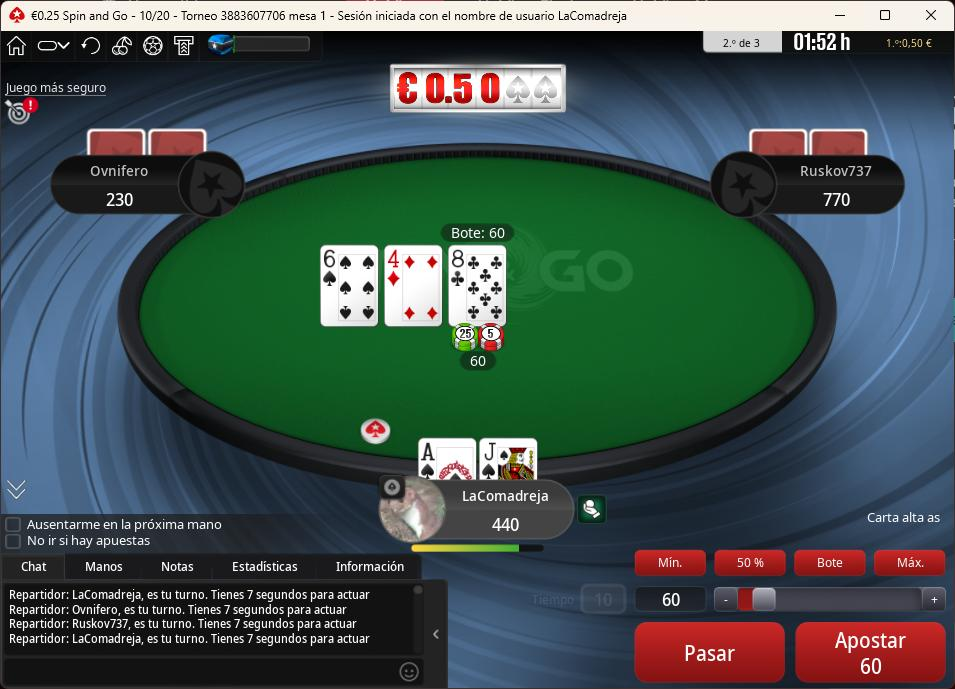ButtonCheck: (633, 616, 784, 684)
ButtonMaxRaise: (872, 548, 945, 579)
ButtonMinRaise: (634, 550, 709, 578)
ButtonPotRaise: (791, 543, 867, 580)
ButtonRaise: (792, 617, 950, 687)
Dealer: (358, 415, 397, 446)
HiddenCards: (83, 129, 213, 159), (745, 129, 868, 158)
Player: (49, 152, 245, 214), (717, 156, 910, 218)
PlayerChips: (485, 519, 531, 538), (817, 191, 862, 210)
Pot: (438, 222, 515, 242)
PrincipalCards: (414, 434, 538, 482)
PrincipalCards2: (479, 436, 543, 483), (416, 436, 478, 484)
PrincipalPlayer: (373, 470, 571, 542)
ShowedCards: (321, 249, 514, 331)
ShowedCards1: (319, 246, 384, 331)
ShowedCards2: (384, 246, 446, 330)
ShowedCards3: (447, 246, 510, 330)
SmallBigBlind: (130, 6, 181, 26)
TablePot: (443, 319, 521, 374)
